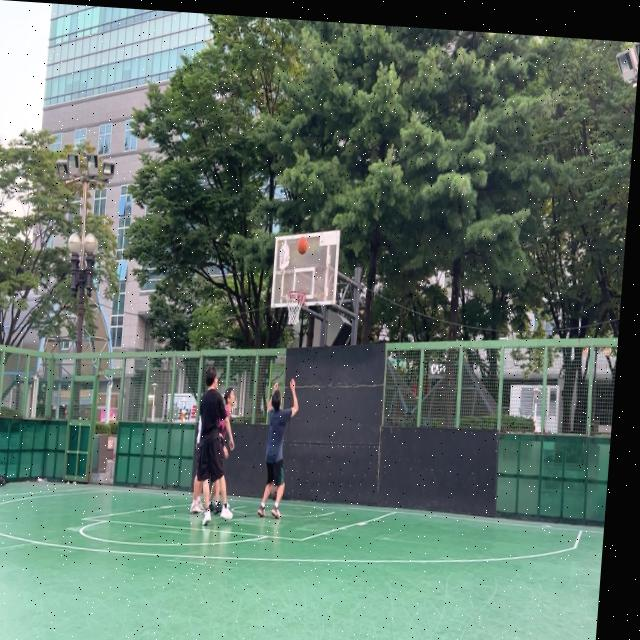basketball: (297, 236, 308, 254), (271, 485, 279, 499)
hoop: (284, 288, 307, 326)
